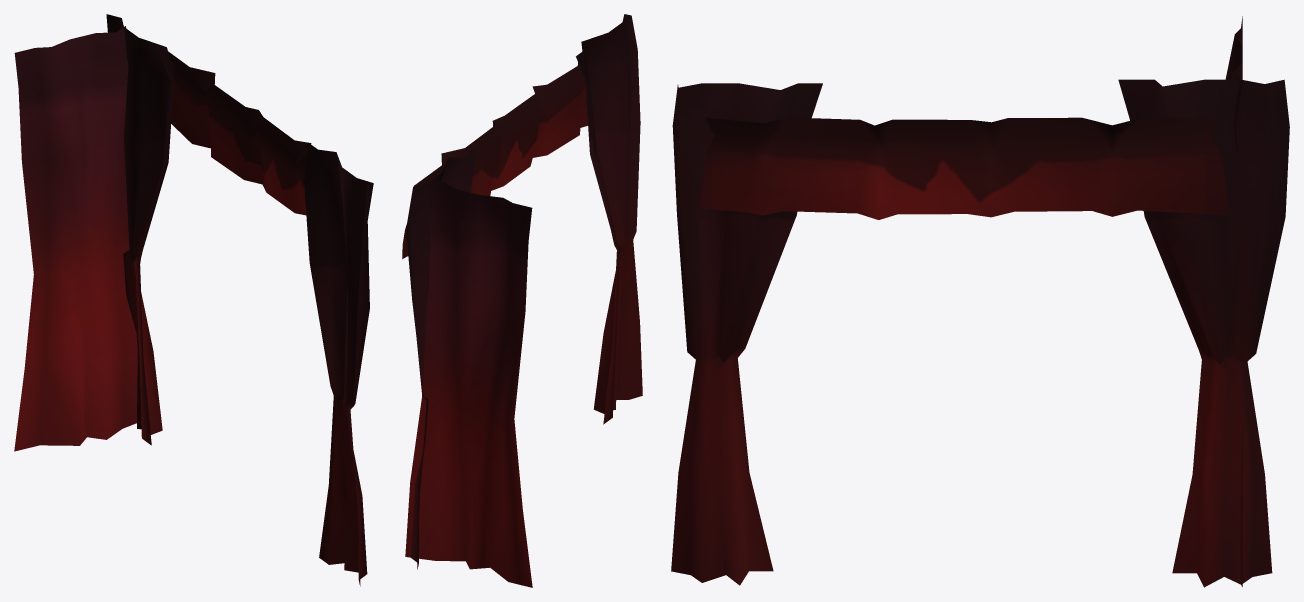
Rendered from Tx_prop_curtains_12.fbx.
3 views of the same model, side by side, from view 1: azimuth 30°, elevation 25°; view 2: azimuth 150°, elevation 25°; view 3: azimuth 270°, elevation 25° (orthographic). The views are drawn at different scales.
Visible parts, largest first — view 1: Tx_prop_curtains_12; view 2: Tx_prop_curtains_12; view 3: Tx_prop_curtains_12.
Boxes of the visible parts, x1,y1,x2,y2 form: Tx_prop_curtains_12: (14, 14, 373, 586); Tx_prop_curtains_12: (402, 14, 642, 587); Tx_prop_curtains_12: (671, 16, 1289, 587).
Bounding box in the file's own units: 7.9 × 20.12 × 22.61.
Materials: 1 (1 with a texture image).
